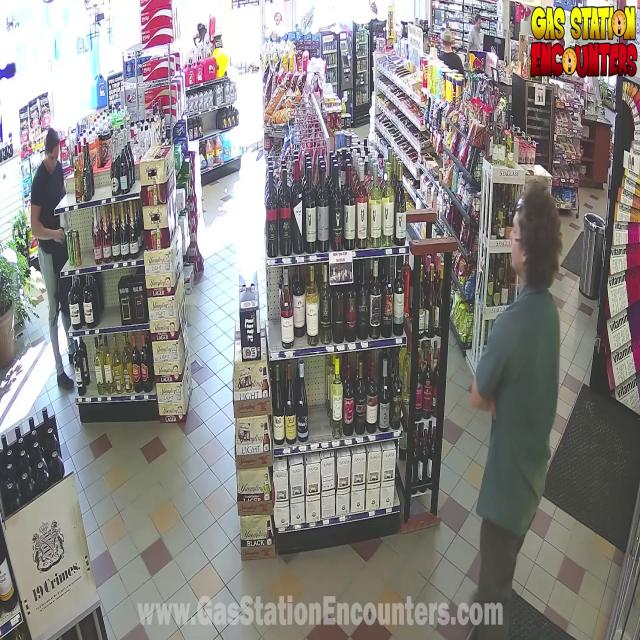normal: (434, 170, 591, 640), (3, 96, 85, 412), (457, 15, 490, 62)
